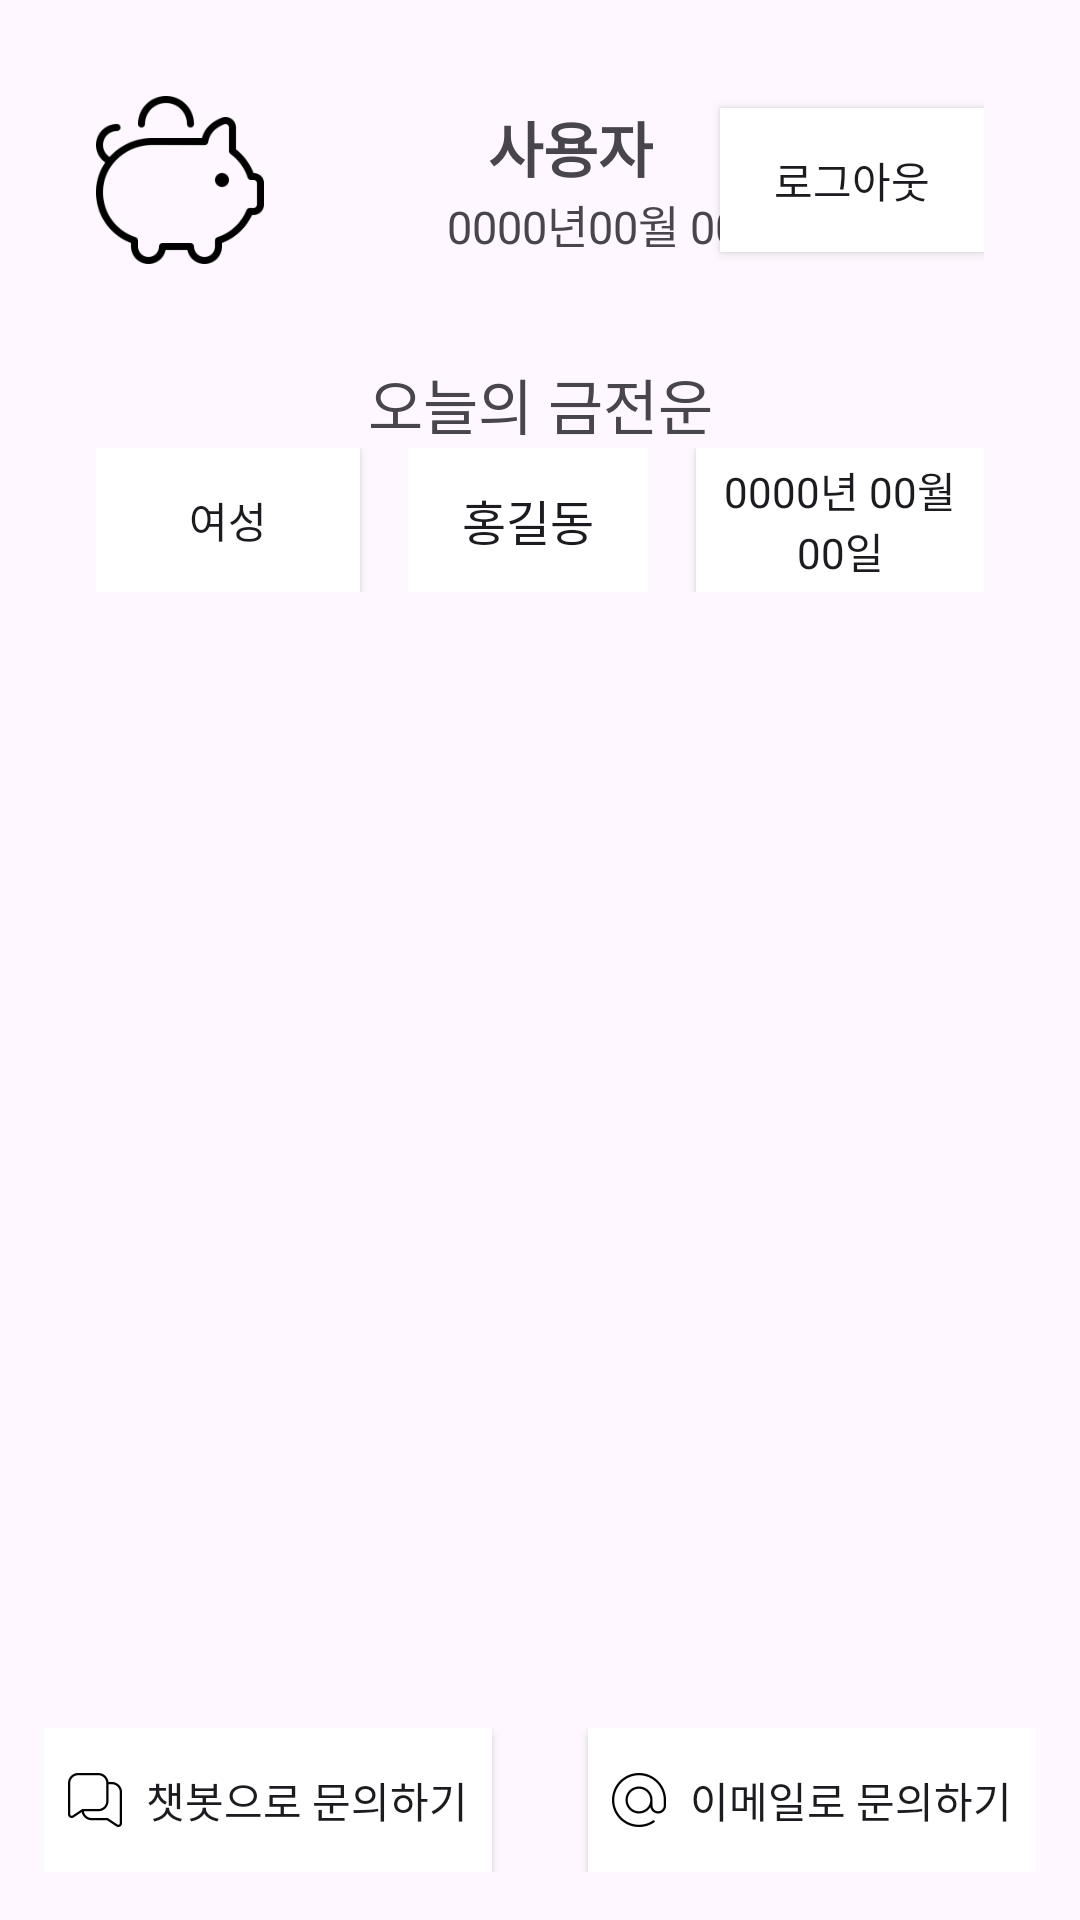

Icon bounding boxes for this 1080×1920 phone screenshot, format {"left": x1, "top": y1, "right": x2, "bottom": y2}:
money: {"left": 96, "top": 96, "right": 264, "bottom": 264}
